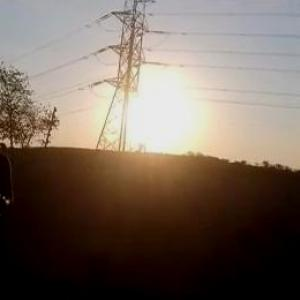follow: (0, 94, 22, 299)
